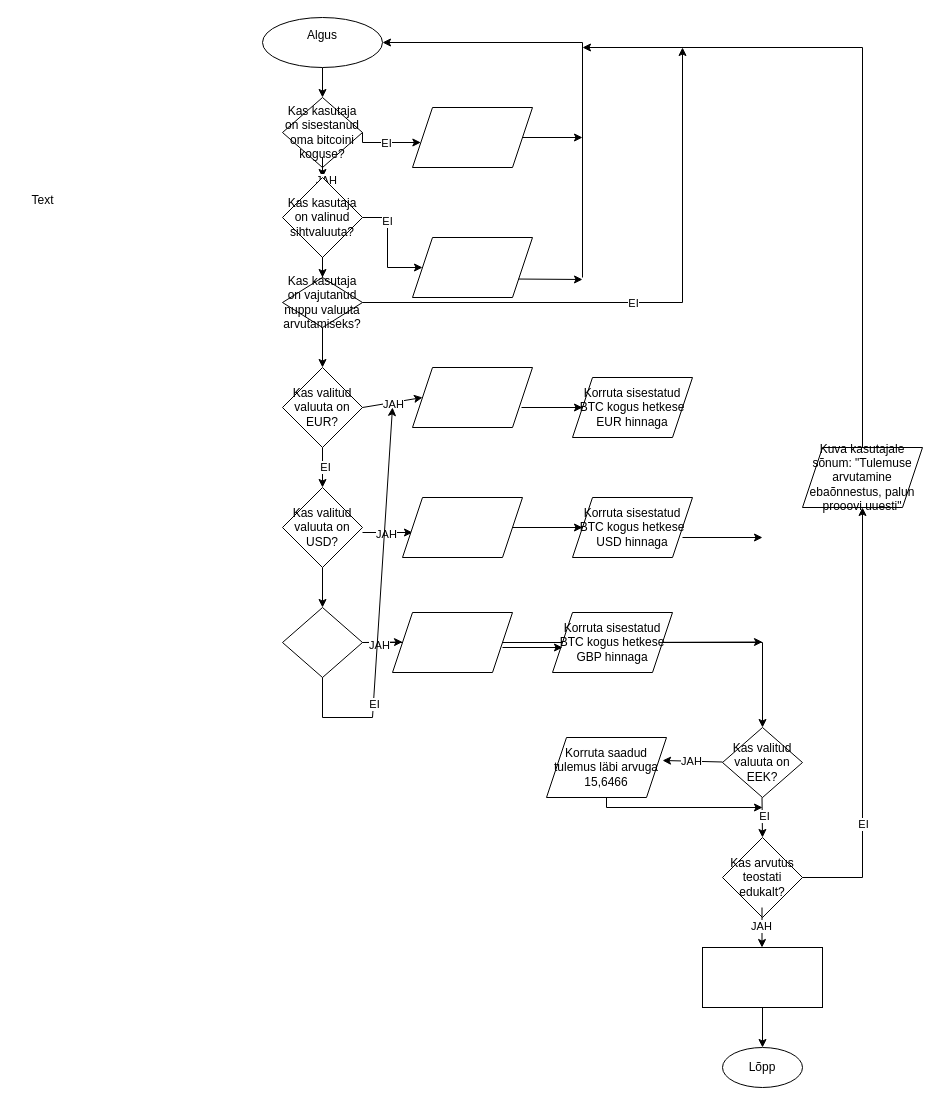
Image size: 940x1105. Some labels were removed from this diagram. The shapes that lost their labels are listed below. From the top down, each one's box as (x1, y1, x2, y2) in pixels, then its label:
(412, 106, 532, 168): Kuva kasutajale sõnum: "Palun sisesta BTC kogus"
(412, 236, 532, 298): Kuva kasutajale sõnum:"Palun vali valuuta"
(412, 366, 532, 428): Esitame APIle päringu BTC hetkehinna teadasaamiseks EUR valuutas
(402, 496, 522, 558): Esitame APIle päringu BTC hetkehinna teadasaamiseks USD valuutas
(282, 606, 362, 678): Kas valitud valuuta on GBP?
(392, 612, 512, 672): Esitame APIle päringu BTC hetkehinna teadasaamiseks GBP valuutas
(702, 946, 822, 1008): Tulemus on aknas kuvatud
